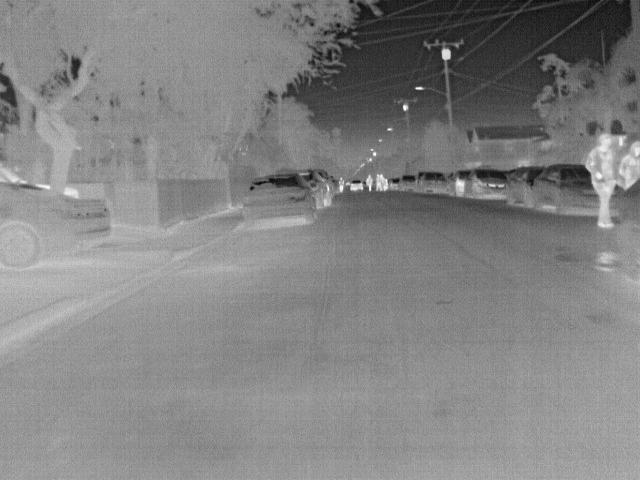car: (1, 163, 111, 270), (244, 175, 320, 228), (533, 164, 599, 214), (461, 168, 510, 199), (507, 166, 544, 203), (297, 170, 333, 206), (446, 169, 470, 197), (418, 172, 448, 192), (398, 174, 417, 192), (349, 178, 365, 192), (388, 176, 402, 192)
person: (585, 132, 620, 229), (618, 141, 640, 192), (374, 174, 385, 192), (364, 174, 374, 193), (338, 176, 346, 194)
